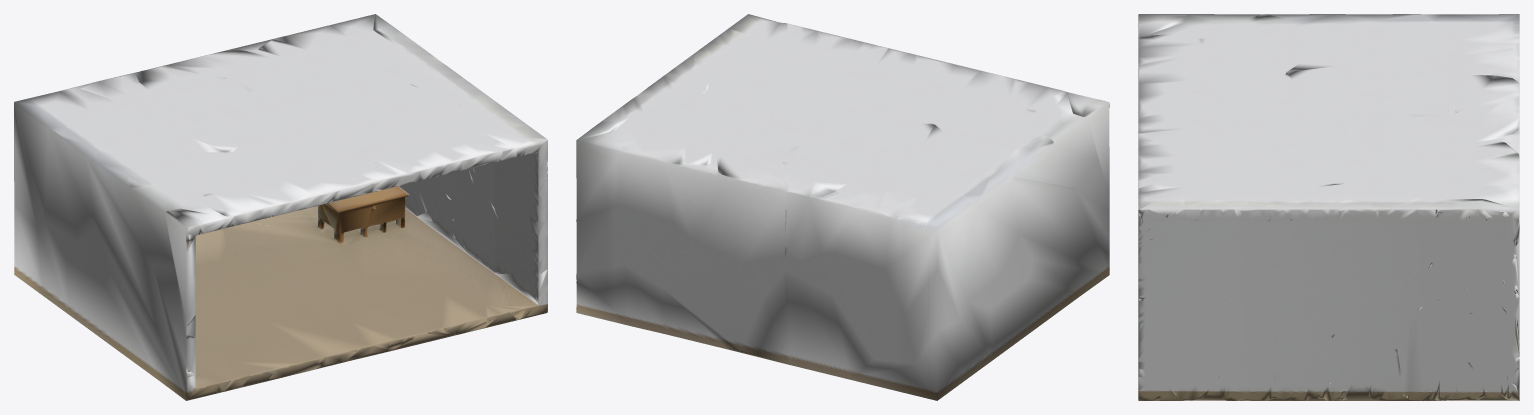
The model's file is classroom-simple.glb.
3 views of the same model, side by side, from view 1: azimuth 30°, elevation 25°; view 2: azimuth 150°, elevation 25°; view 3: azimuth 270°, elevation 25° (orthographic). The views are drawn at different scales.
Visible parts, largest first — view 1: Mesh_0.003; view 2: Mesh_0.003; view 3: Mesh_0.003.
Part boxes in pixels (x1,y1,x2,y2): Mesh_0.003: (14,14,547,400); Mesh_0.003: (576,14,1109,400); Mesh_0.003: (1138,14,1519,400).
Bounding box in the file's own units: 15.29 × 7 × 12.62.
1 material, 1 textured.
